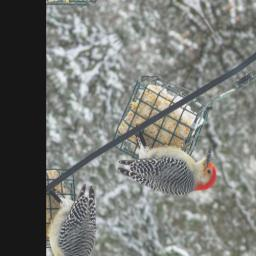Woodpecker: (105, 101, 227, 225)
